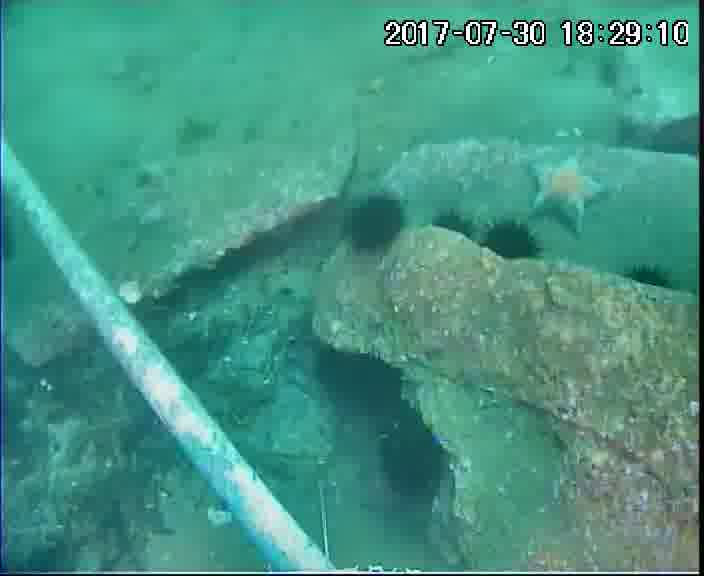echinus: (322, 343, 408, 420), (380, 412, 441, 497), (345, 190, 407, 252), (482, 215, 551, 265), (429, 209, 478, 253), (617, 261, 674, 295)
starfish: (528, 151, 611, 236)
